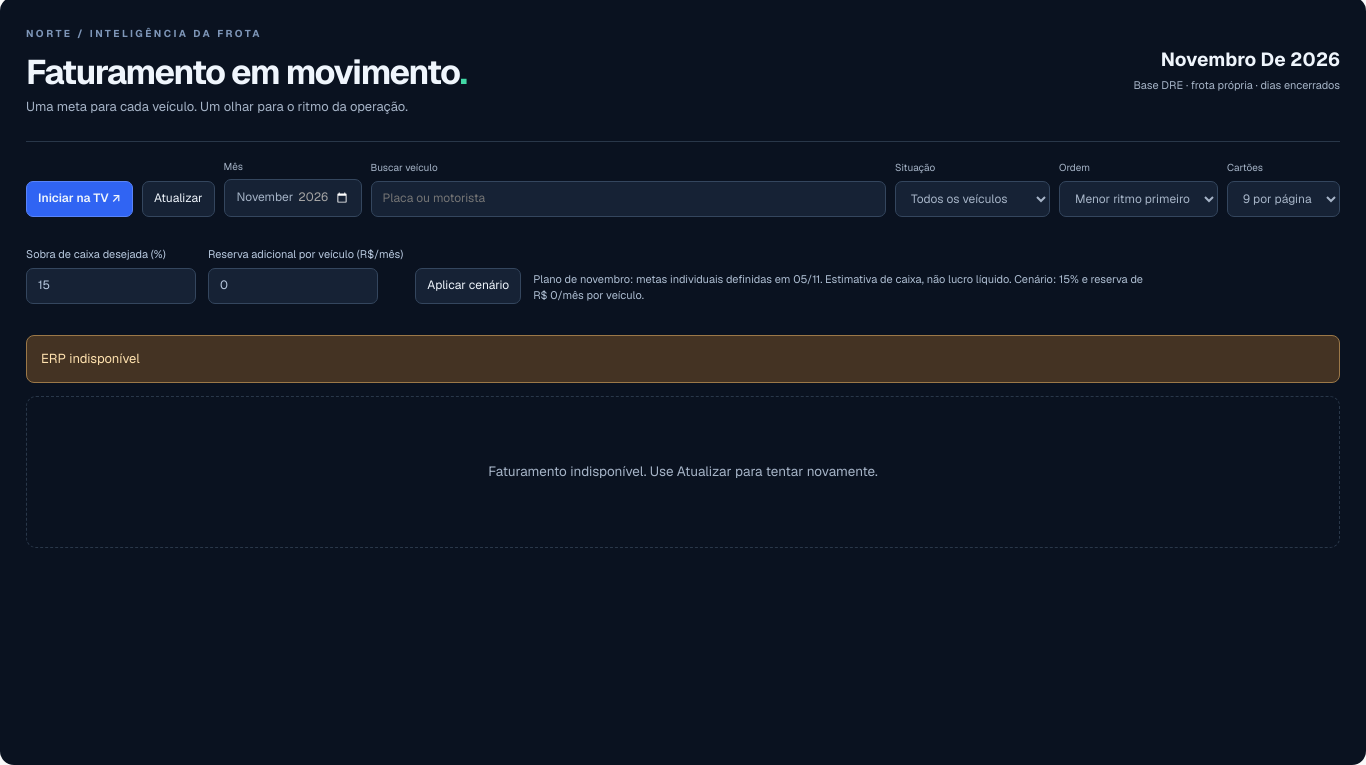
it: falha de consulta não mostra faturamento zero e permite nova tentativa
The width and height of the screenshot is (1366, 765).
Expected: the message "ERP indisponível" is shown, [26,334,1340,383]
Click the button "Atualizar" at {"x": 178, "y": 199}, box [142,181,214,217]
(page scrolled)
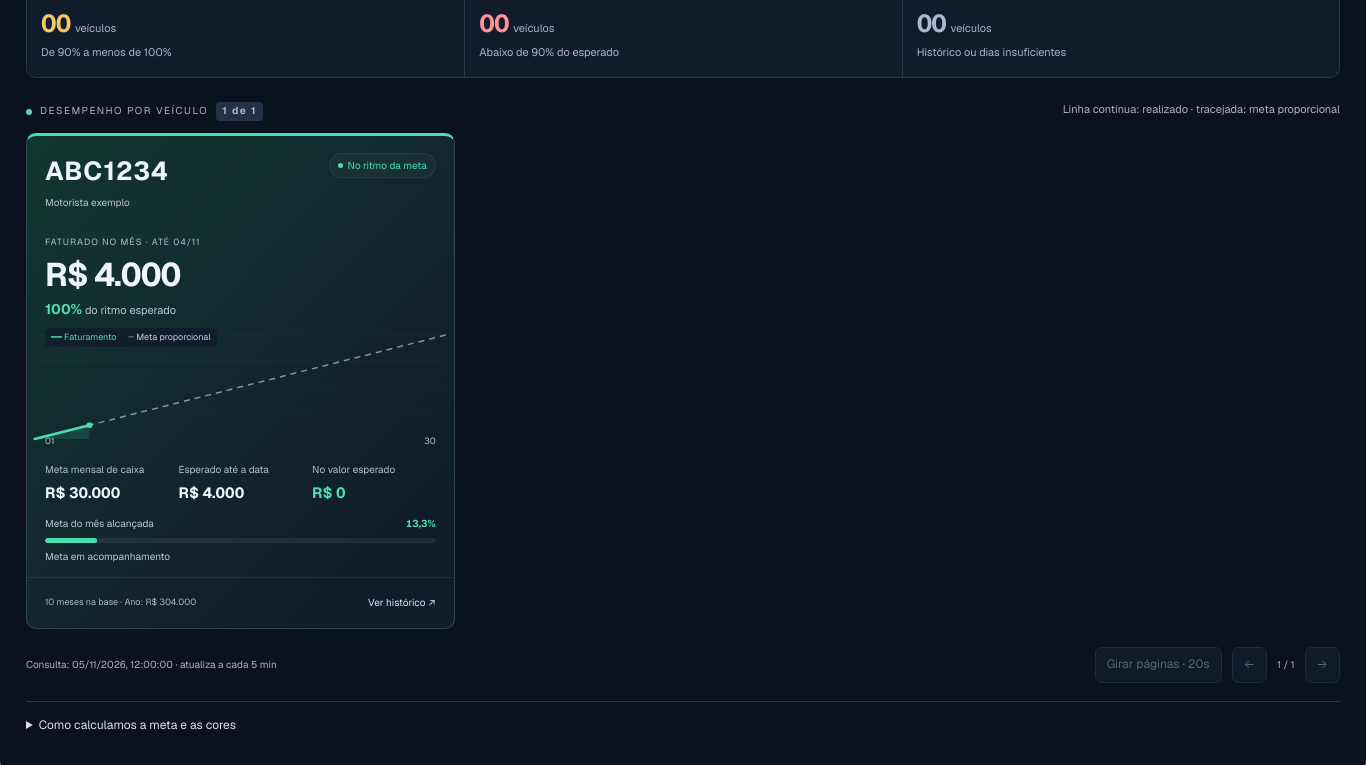
Result: the element named "Veículo ABC1234" is shown at [26,133,455,629]
